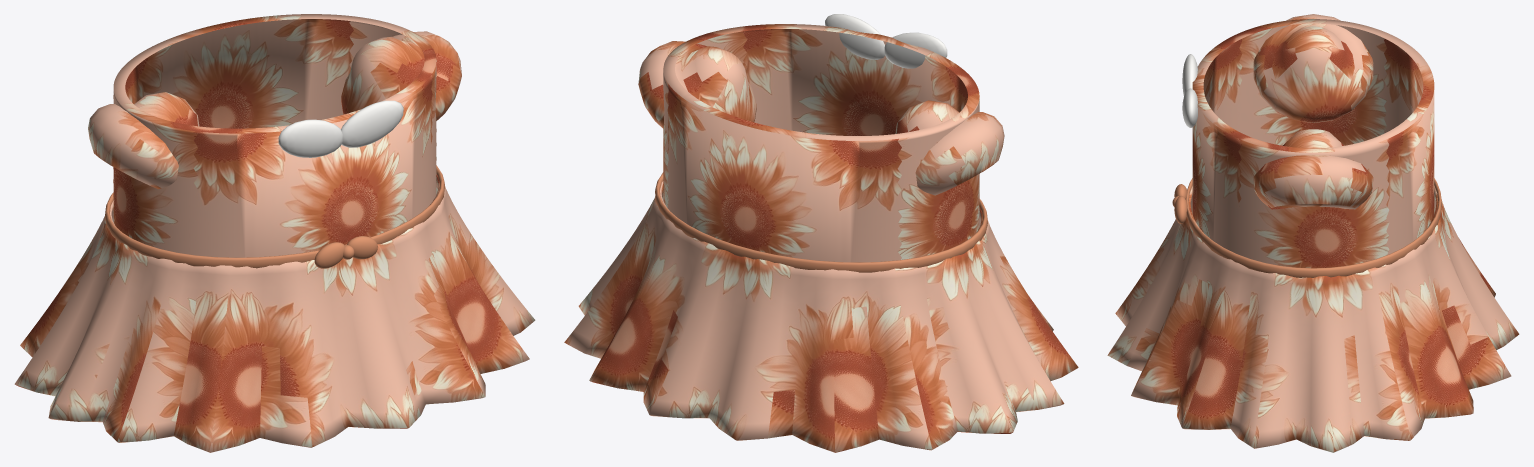
Rendered from dress3.fbx.
The picture shows the model from 3 angles, left to right: view 1: azimuth 30°, elevation 25°; view 2: azimuth 150°, elevation 25°; view 3: azimuth 270°, elevation 25°; orthographic projection. The views are drawn at different scales.
Parts seen in each view (by area): view 1: dress3; view 2: dress3; view 3: dress3.
Part boxes in pixels (x1,y1,x2,y2): dress3: (14, 14, 535, 452); dress3: (564, 14, 1078, 452); dress3: (1107, 14, 1519, 452).
Bounding box in the file's own units: 1.34 × 0.7883 × 1.09.
3 materials, 1 textured.
